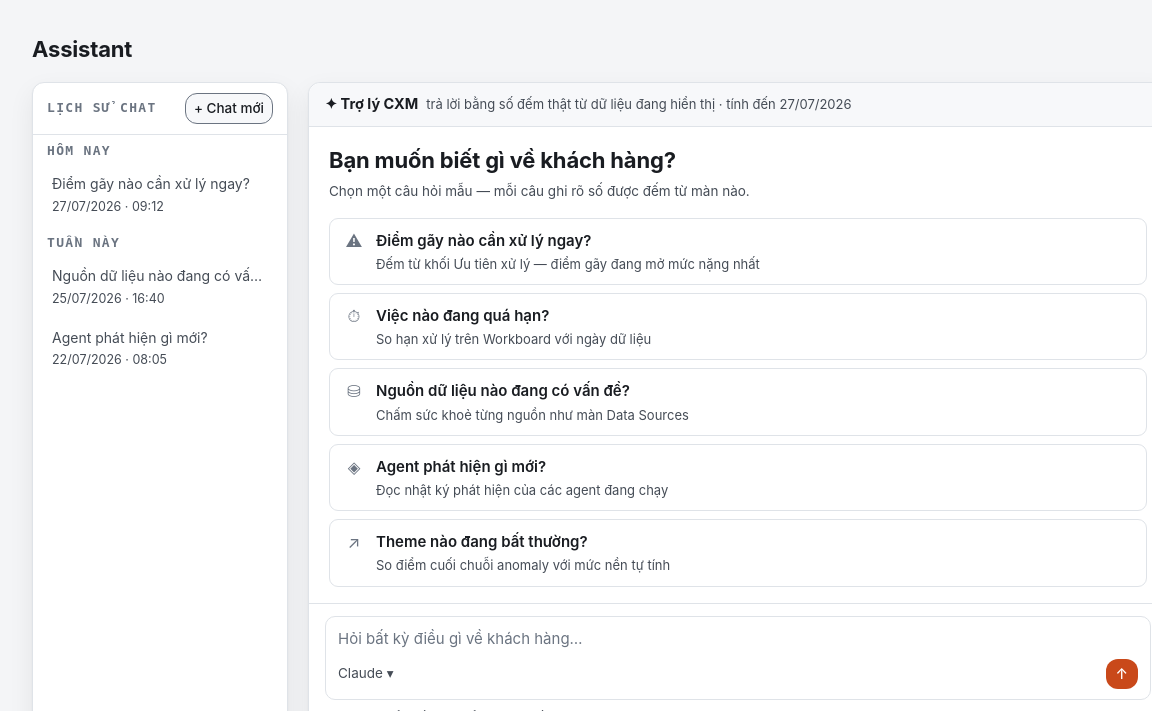
Test: hỏi bằng câu hỏi mẫu › câu 'Agent phát hiện gì mới?' trả đủ phát hiện của data.ag — màn Agents & Alerts cũ sống ở đây
Click the button with test id "assistant-prompt-p-agents": (461, 466) [329,444,1147,511]
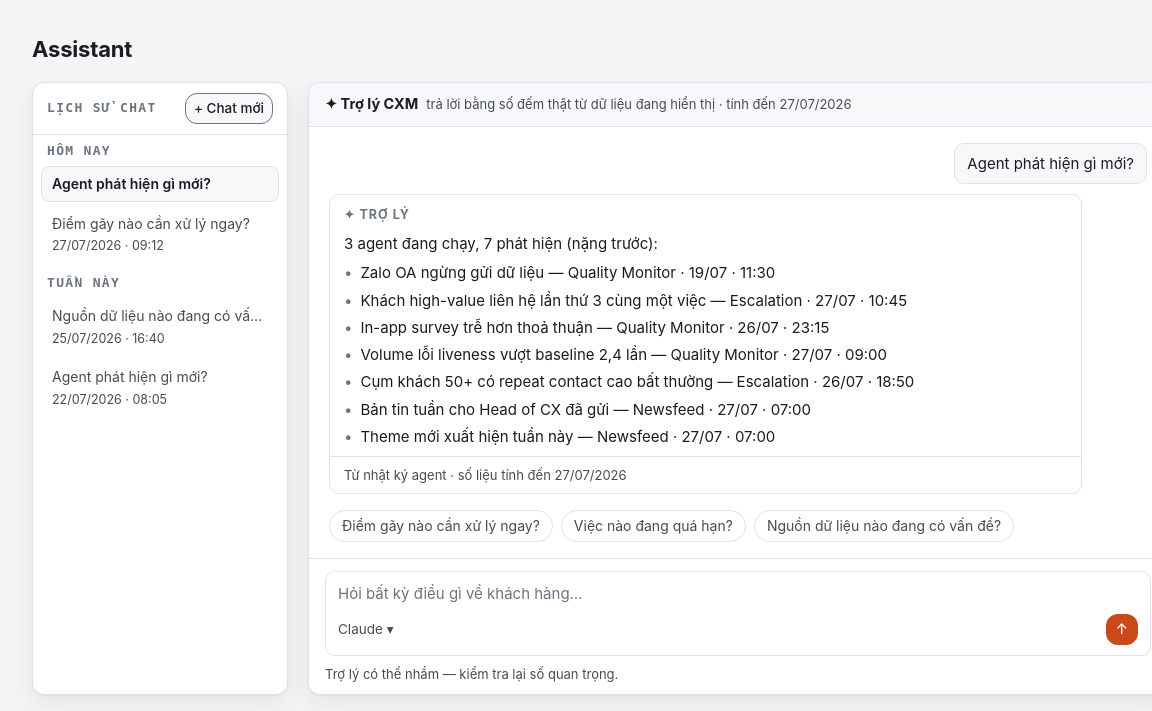
Now the element with test id "assistant-conversation" shows "Zalo OA ngừng gửi dữ liệu", box [360,263,775,282]
Now the element with test id "assistant-conversation" shows "In-app survey trễ hơn thoả thuận", box [360,318,829,337]
Now the element with test id "assistant-conversation" shows "Volume lỗi liveness vượt baseline 2,4 lần", box [360,345,887,364]
